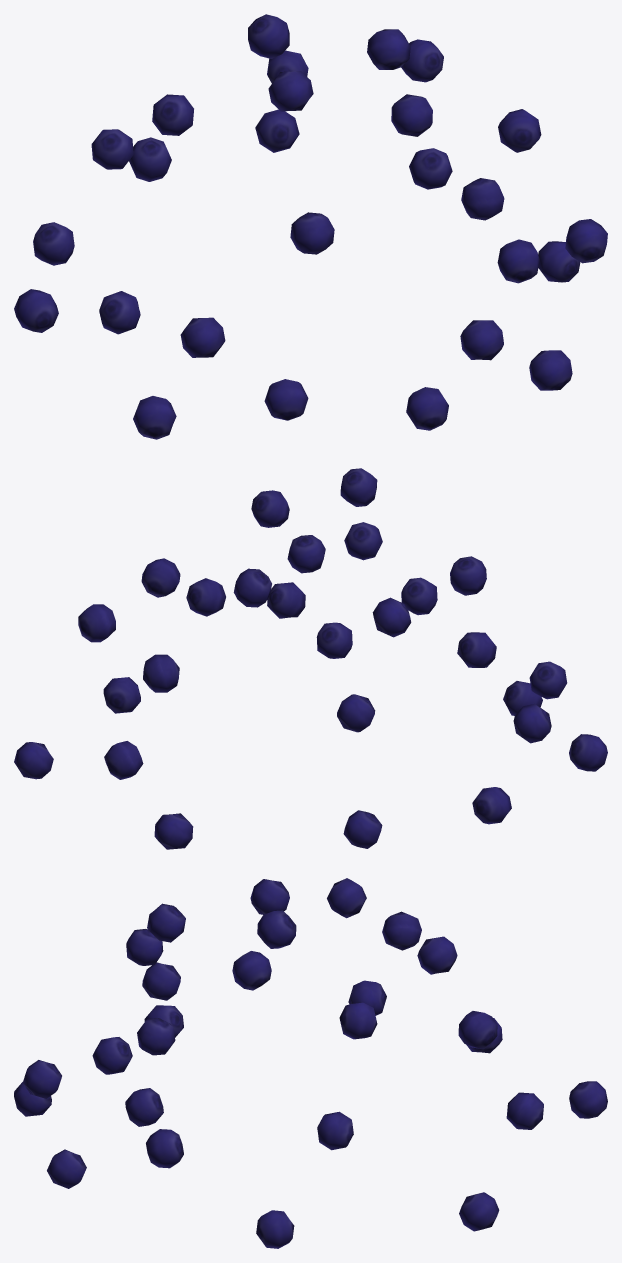
Rendered from Blueberries.fbx.
The picture shows the model from 3 angles, top to bottom: view 1: azimuth 30°, elevation 25°; view 2: azimuth 150°, elevation 25°; view 3: azimuth 270°, elevation 25°; orthographic projection. The views are drawn at different scales.
Visible parts, largest first — view 1: Blueberries; view 2: Blueberries; view 3: Blueberries.
Part boxes in pixels (bbox=[...]): Blueberries: bbox=[14, 14, 607, 439]; Blueberries: bbox=[14, 468, 607, 849]; Blueberries: bbox=[14, 878, 607, 1248].
Size of the model in its own units: 185 by 102 by 210.
Materials: 1 (1 with a texture image).
